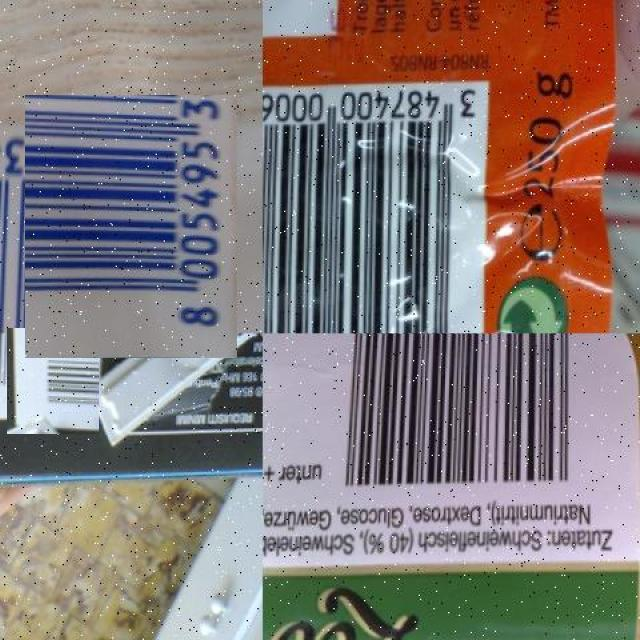Barcode: (263, 82, 493, 334), (13, 107, 250, 346), (334, 333, 586, 496), (3, 331, 103, 430)
